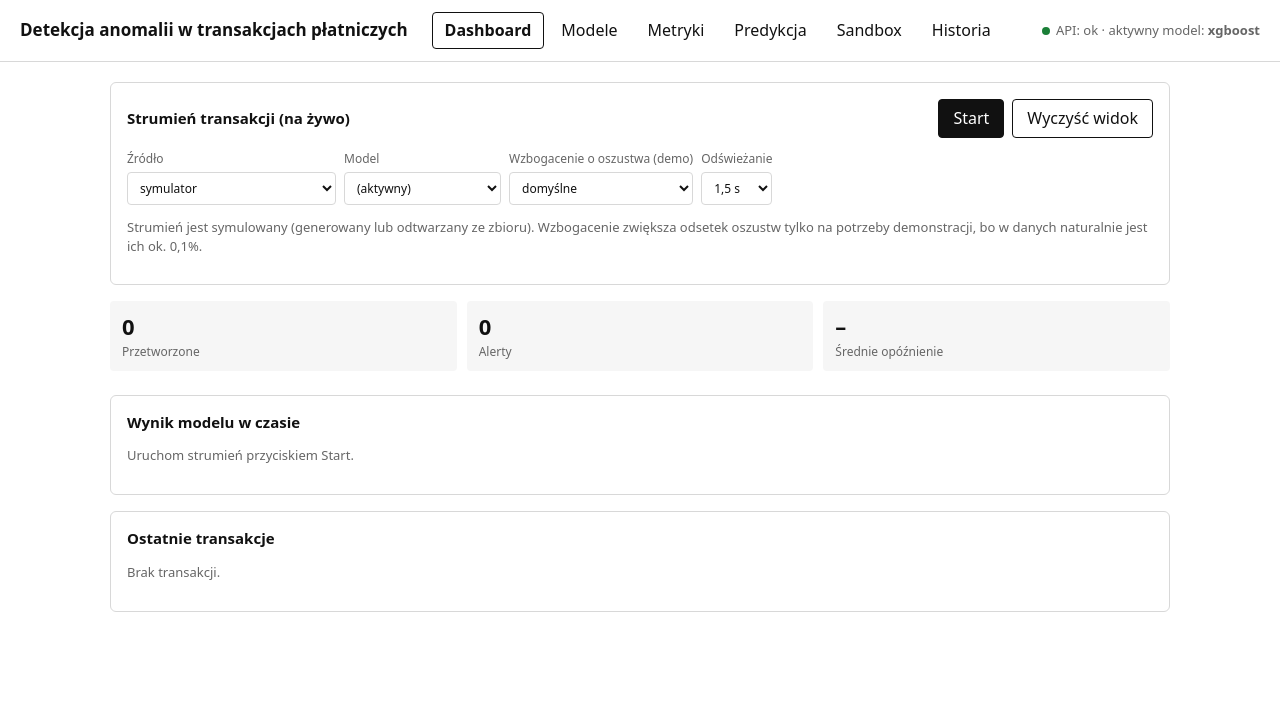
Scenario: predict shows decision
Expected: the text "xgboost" is shown, top-left (1208, 21), bottom-right (1260, 39)
What coordinates should you click on to do the following:
click the button "Predykcja"
I would click on:
 (770, 31)
Its box is top-left (721, 12), bottom-right (820, 49).
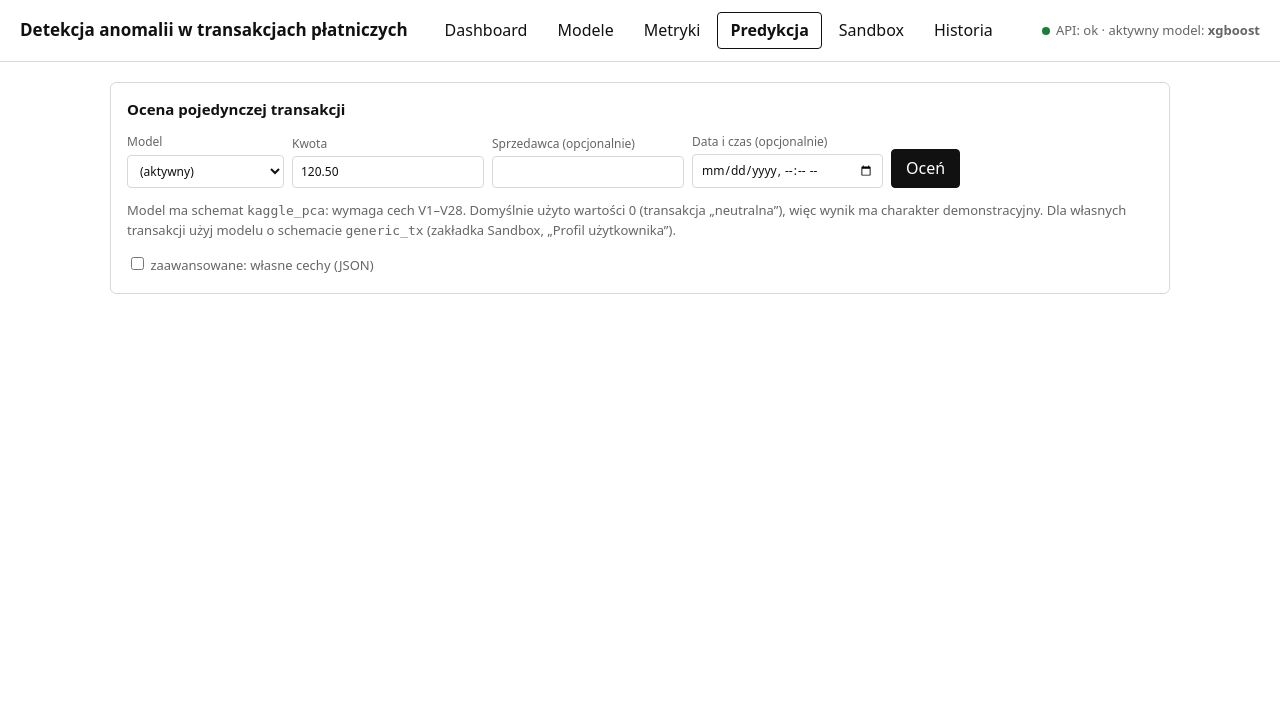
What coordinates should you click on to do the following:
click the button "Oceń"
I would click on:
 (926, 168)
Its box is top-left (891, 148), bottom-right (960, 188).
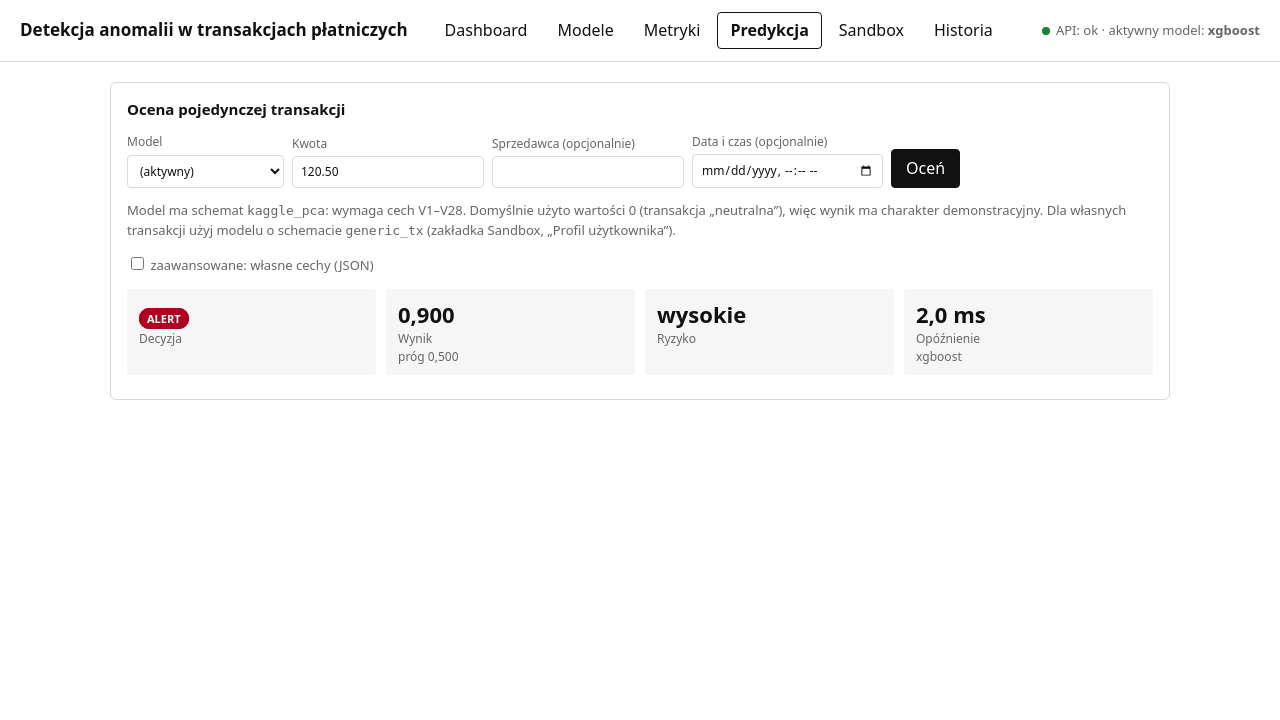
Expected: the text "wysokie" is shown, top-left (657, 299), bottom-right (746, 329)
